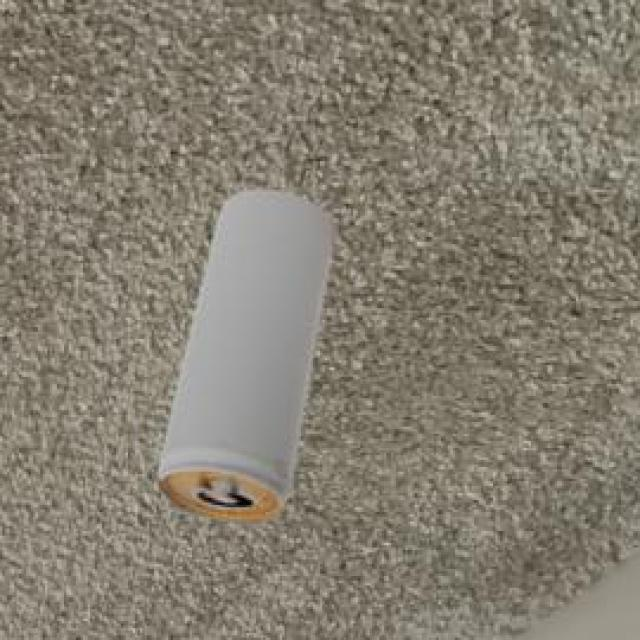logam: (158, 193, 331, 525)
